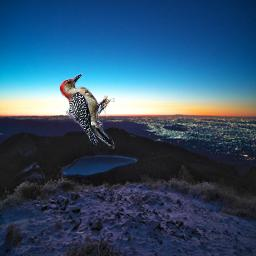Woodpecker: (59, 73, 115, 149)
